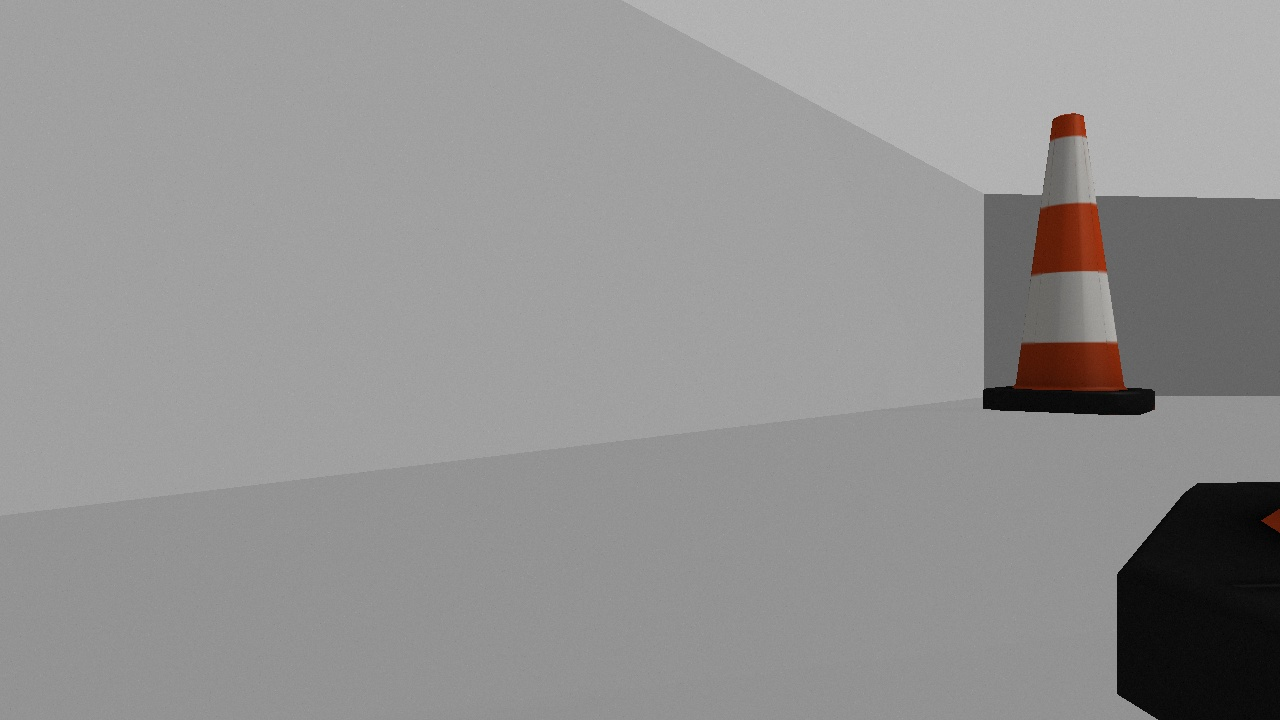barricade: (981, 112, 1154, 416)
